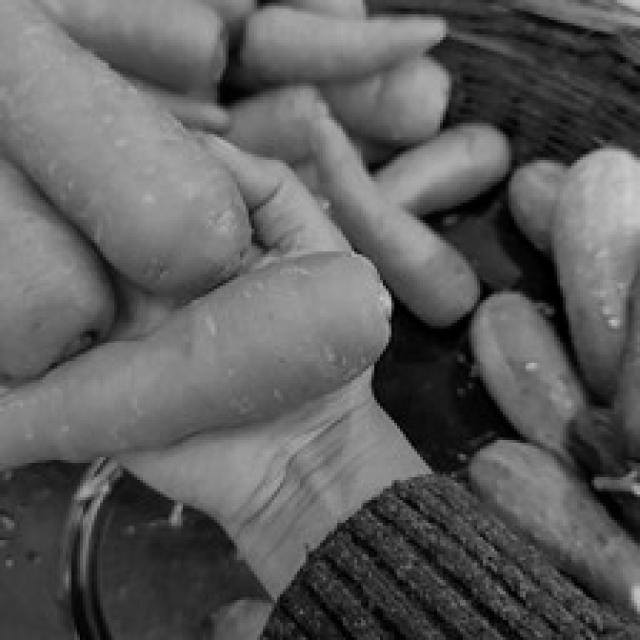Fresh_Carrot: (0, 243, 394, 488), (1, 0, 237, 287)
